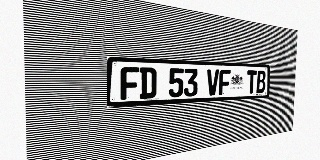3: (184, 68, 198, 97)
5: (169, 68, 184, 98)
B: (256, 70, 266, 93)
D: (139, 67, 157, 99)
F: (120, 67, 139, 100), (219, 69, 231, 95)
T: (246, 70, 257, 94)
V: (206, 69, 219, 96)
